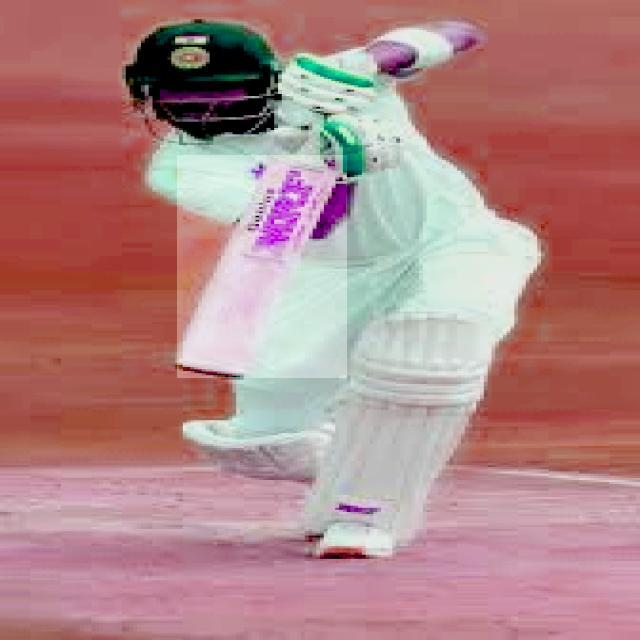bat: (179, 151, 340, 381)
toe: (175, 348, 250, 387)
